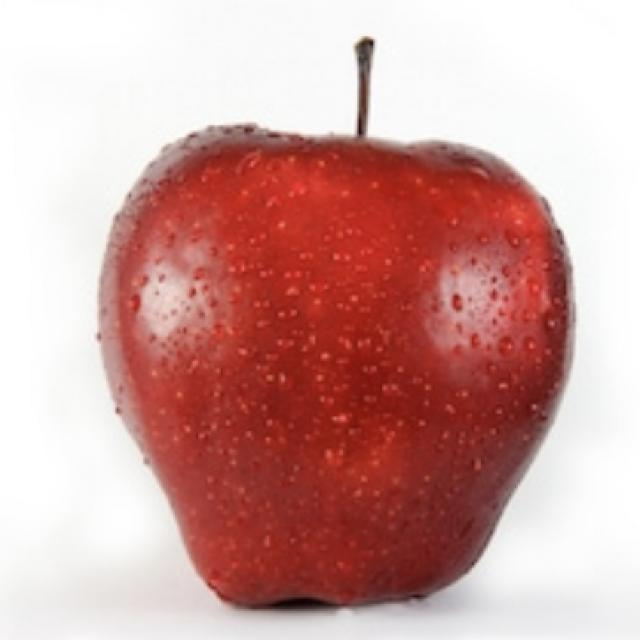Fresh Apple: (110, 130, 557, 600)
